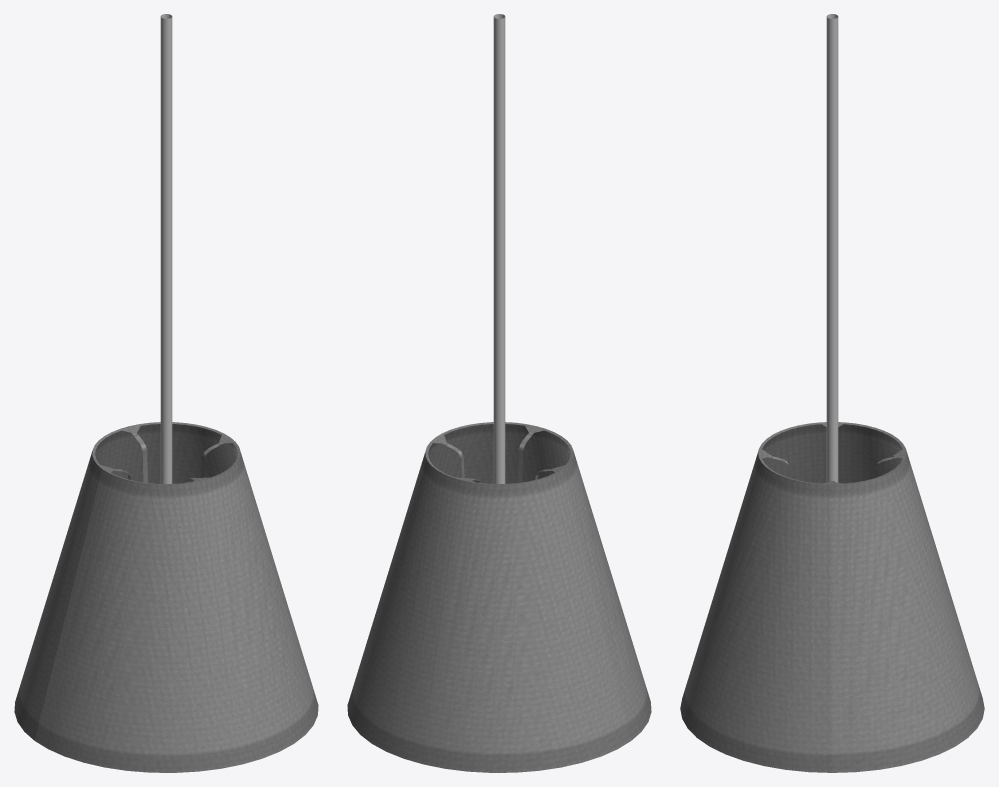
Rendered from SM_Ceiling_Lamp.fbx.
3 views of the same model, side by side, from view 1: azimuth 30°, elevation 25°; view 2: azimuth 150°, elevation 25°; view 3: azimuth 270°, elevation 25° (orthographic).
Parts seen in each view (by area): view 1: SM_Ceiling_Lamp_LOD0; view 2: SM_Ceiling_Lamp_LOD0; view 3: SM_Ceiling_Lamp_LOD0.
Part boxes in pixels (x1,y1,x2,y2): SM_Ceiling_Lamp_LOD0: (14, 14, 318, 772); SM_Ceiling_Lamp_LOD0: (347, 14, 651, 772); SM_Ceiling_Lamp_LOD0: (680, 14, 984, 772).
Bounding box in the file's own units: 38.42 × 38.42 × 96.38.
